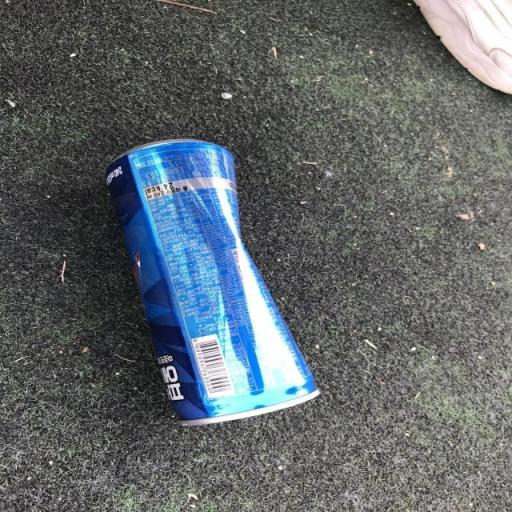metal: (83, 132, 359, 444)
